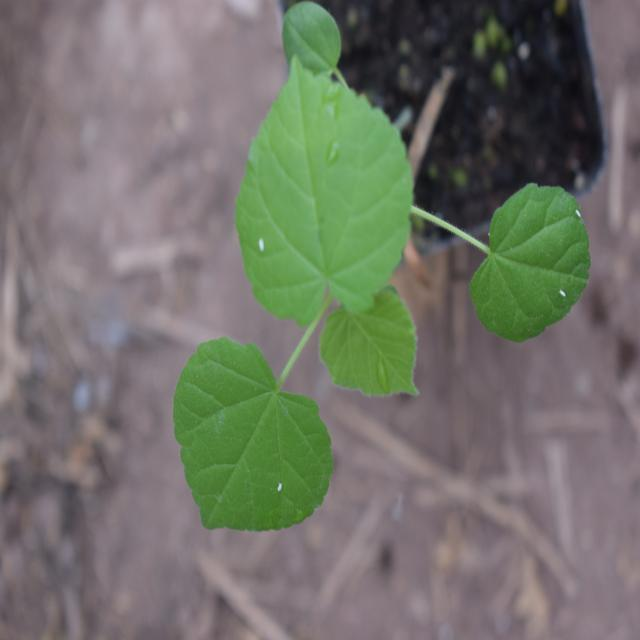abutilon theophrasti: (147, 67, 592, 542)
